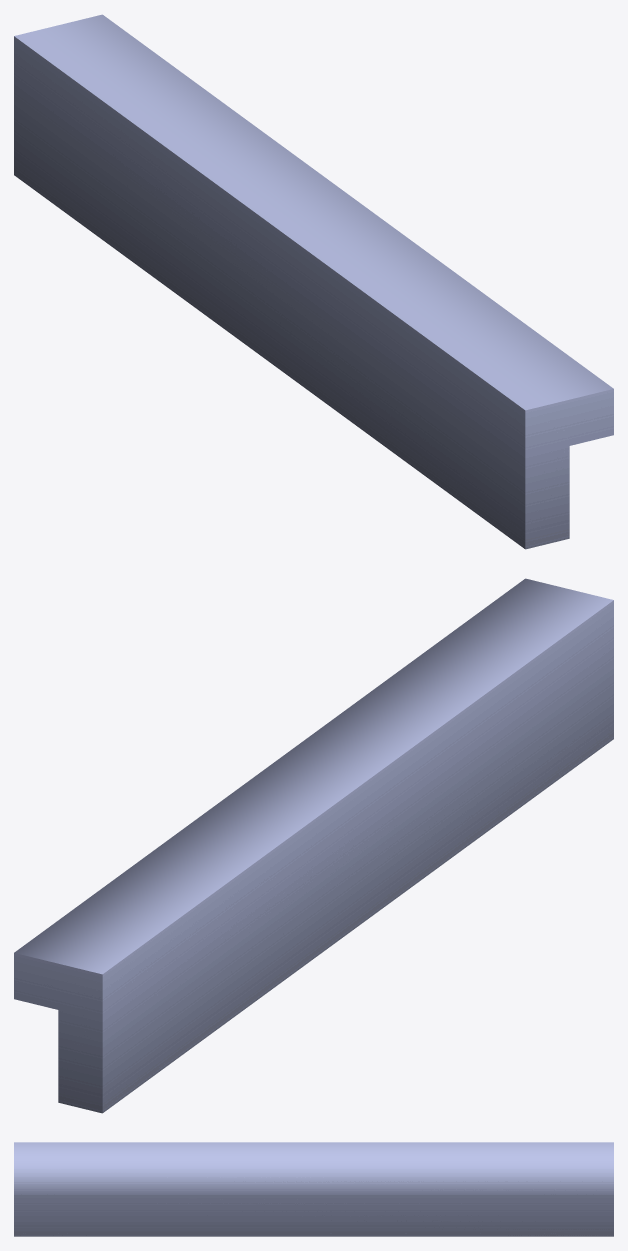
The model's file is border.glb.
3 renders of one model, top to bottom at view 1: azimuth 30°, elevation 25°; view 2: azimuth 150°, elevation 25°; view 3: azimuth 270°, elevation 25°, orthographic. The views are drawn at different scales.
Visible parts, largest first — view 1: border; view 2: border; view 3: border.
Boxes of the visible parts, <box> form: border: <box>14,14,613,549</box>; border: <box>14,578,613,1113</box>; border: <box>14,1142,613,1236</box>.
Size of the model in its own units: 0.2 by 0.3 by 2.
Materials: 1 (1 with a texture image).
